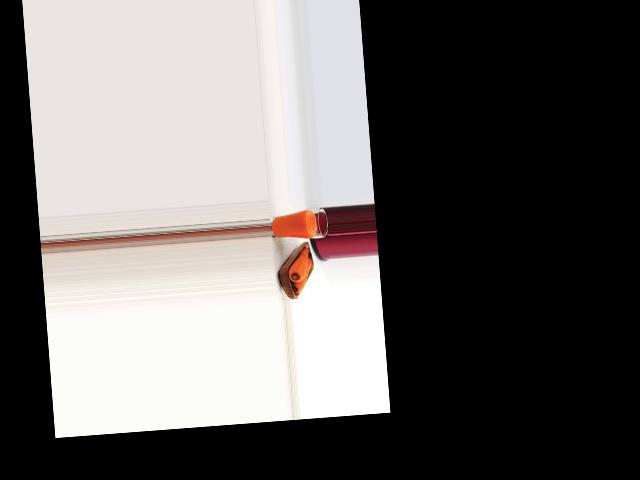carrot: (288, 261, 313, 295)
